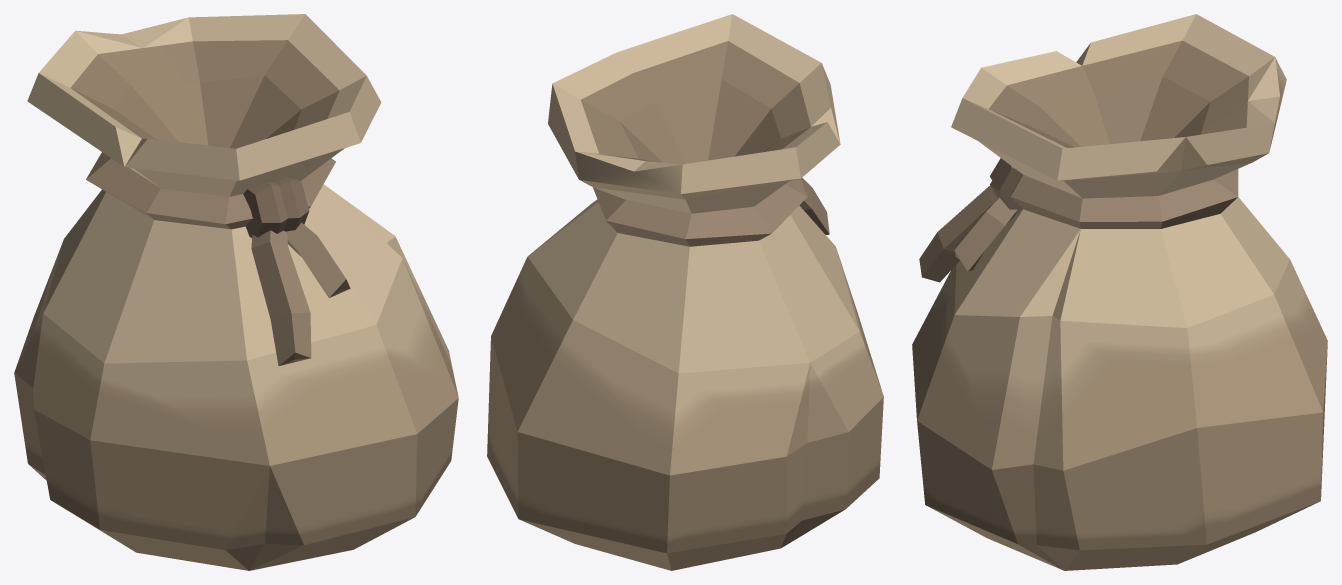
File: SM_Prop_Coin_Pouch_01.fbx
3 renders of one model, left to right at view 1: azimuth 30°, elevation 25°; view 2: azimuth 150°, elevation 25°; view 3: azimuth 270°, elevation 25°, orthographic. The views are drawn at different scales.
Parts seen in each view (by area): view 1: SM_Prop_Coin_Pouch_01; view 2: SM_Prop_Coin_Pouch_01; view 3: SM_Prop_Coin_Pouch_01.
Boxes of the visible parts, left/top/right/bottom form: SM_Prop_Coin_Pouch_01: left=14, top=14, right=458, bottom=570; SM_Prop_Coin_Pouch_01: left=487, top=14, right=883, bottom=570; SM_Prop_Coin_Pouch_01: left=912, top=14, right=1327, bottom=570.
Size of the model in its own units: 21.02 by 24.6 by 21.29.
